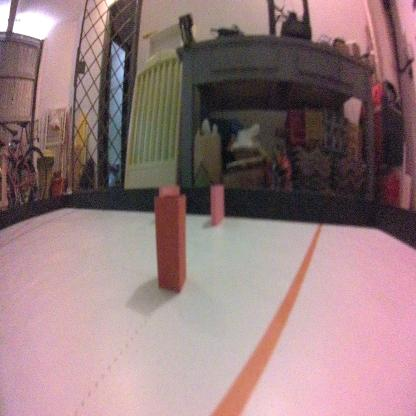magenta: (207, 178, 225, 223)
red: (152, 190, 186, 293)
